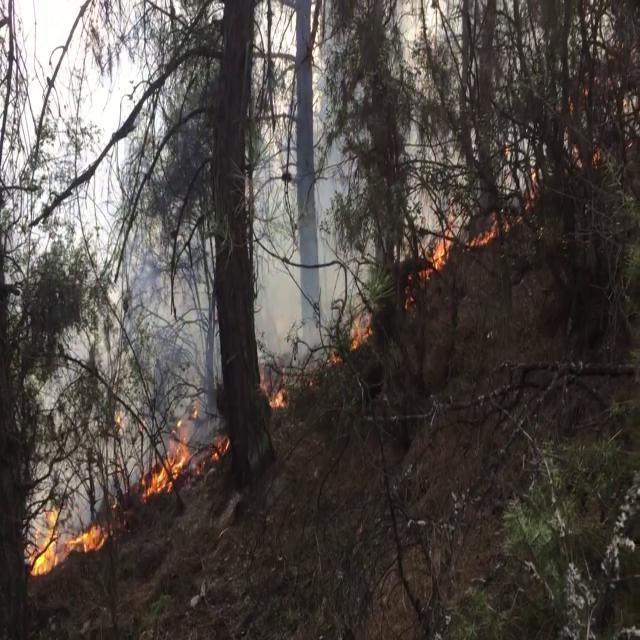Fire: (128, 406, 204, 498), (27, 504, 109, 579), (248, 349, 302, 432), (413, 210, 465, 286), (560, 124, 603, 204), (330, 298, 372, 362), (465, 218, 518, 260), (515, 156, 551, 210)
Smoke: (246, 92, 390, 276), (78, 217, 212, 367), (252, 208, 332, 314)
